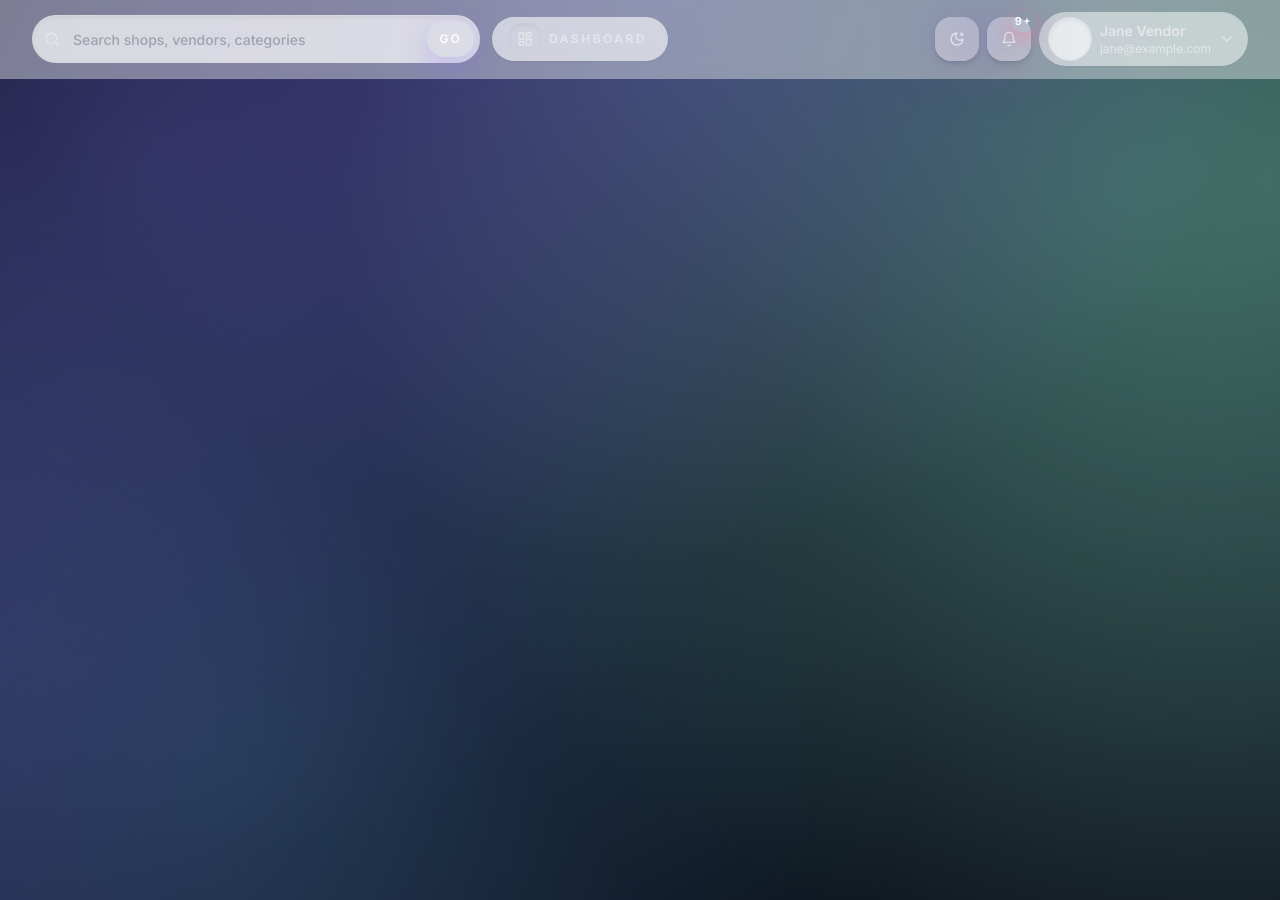
it: Topbar › opens notifications dropdown
The width and height of the screenshot is (1280, 900).
Click the button named "notifications": click(1009, 39) [987, 17, 1031, 61]
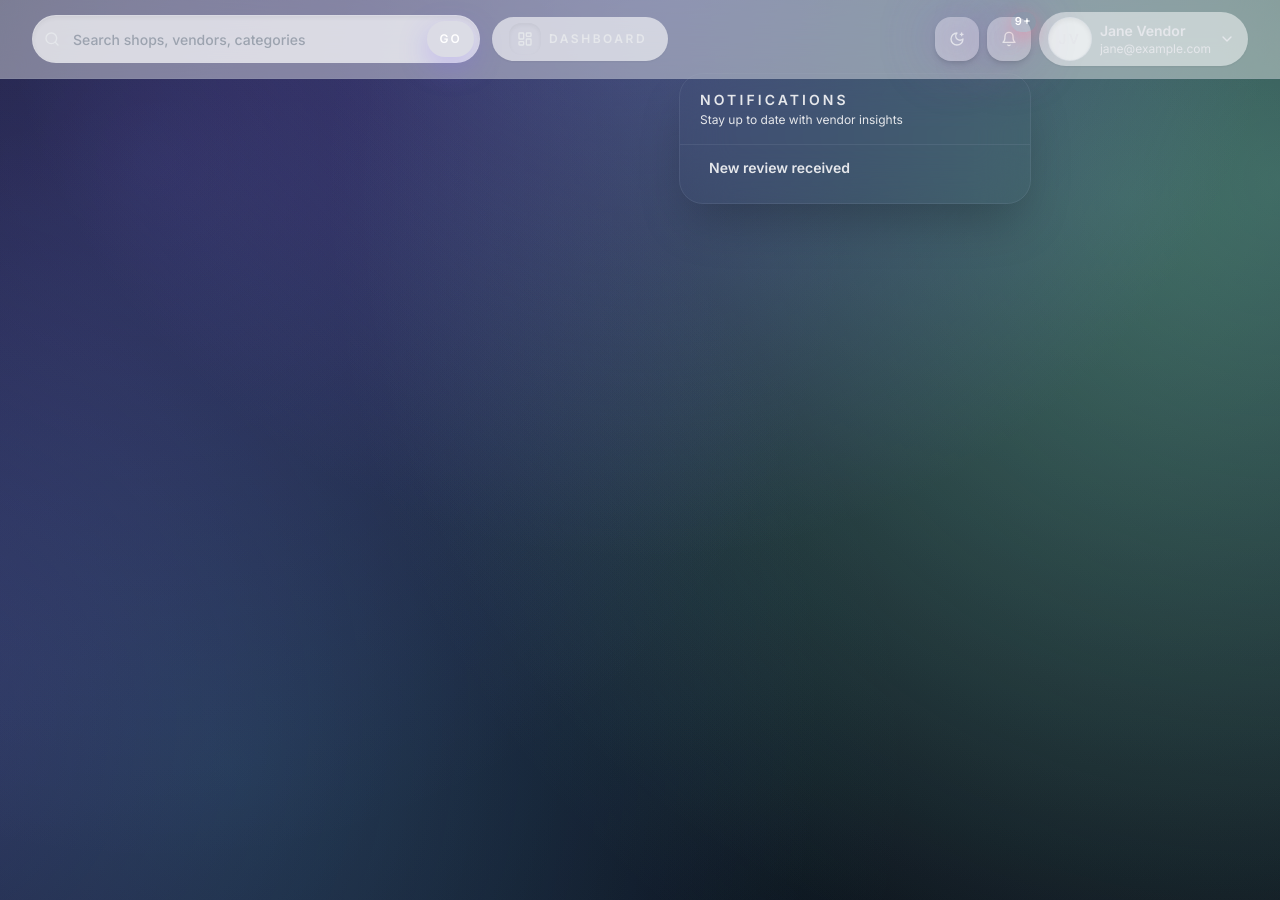
Expected: the text "Notifications" is shown, [700, 91, 849, 108]
Expected: the text "New review received" is shown, [709, 159, 850, 176]
